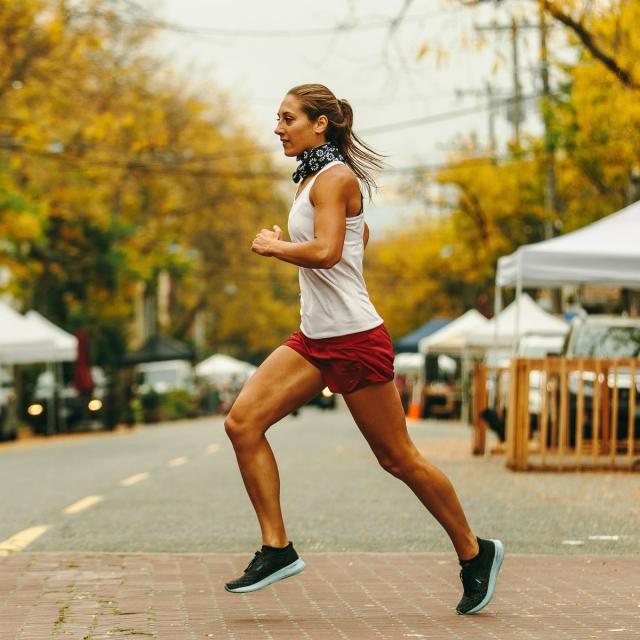Person: (225, 81, 502, 616)
